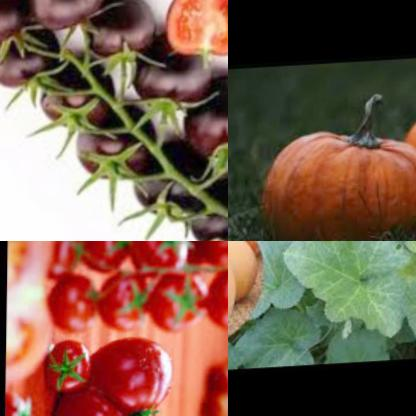pumpkin: (254, 120, 416, 241), (228, 241, 267, 303)
tomato: (43, 336, 172, 416), (137, 47, 225, 137), (63, 119, 163, 195), (75, 0, 163, 84), (6, 241, 59, 379), (125, 157, 218, 234), (34, 68, 113, 139), (0, 20, 69, 98), (163, 0, 228, 73), (143, 276, 210, 342), (183, 84, 228, 175), (96, 271, 151, 339), (33, 0, 116, 41), (52, 277, 101, 336), (171, 191, 228, 241), (47, 336, 88, 403), (0, 0, 41, 54), (84, 241, 139, 280), (137, 241, 190, 274), (47, 241, 88, 275), (210, 272, 228, 337), (5, 389, 44, 416)
